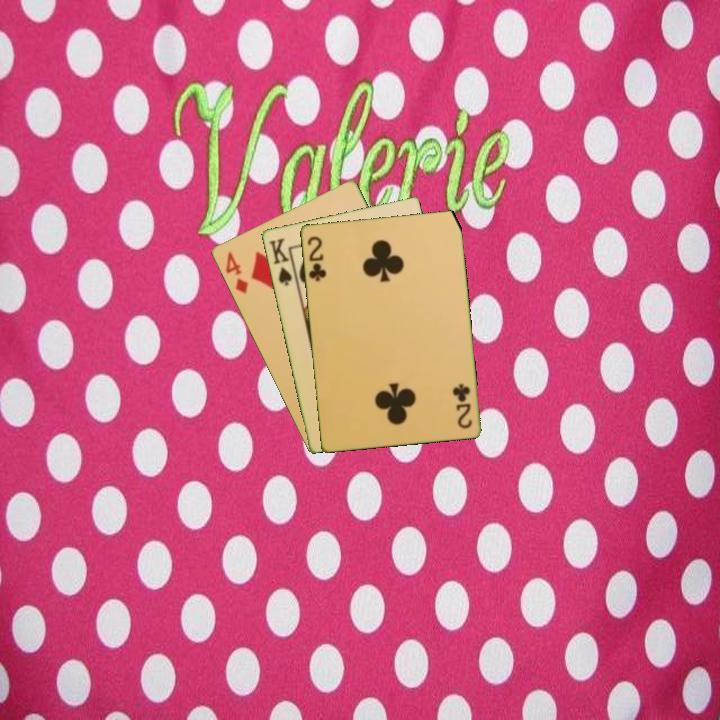2c: (304, 232, 329, 284), (450, 380, 474, 431)
4d: (222, 248, 251, 297)
Ks: (265, 234, 298, 288)
